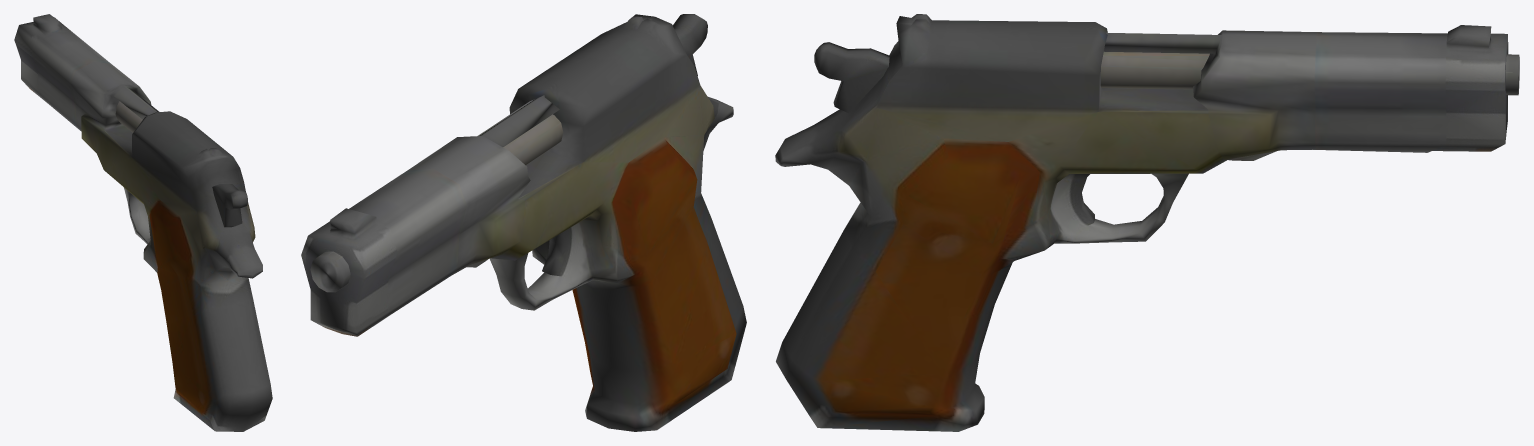
The model's file is tripo-pistol.glb.
The picture shows the model from 3 angles, left to right: view 1: azimuth 30°, elevation 25°; view 2: azimuth 150°, elevation 25°; view 3: azimuth 270°, elevation 25°; orthographic projection. The views are drawn at different scales.
Parts seen in each view (by area): view 1: tripo_node_c7acfbc8-4406-477b-a368-d605658fc1aa; view 2: tripo_node_c7acfbc8-4406-477b-a368-d605658fc1aa; view 3: tripo_node_c7acfbc8-4406-477b-a368-d605658fc1aa.
Part boxes in pixels (bbox=[...]): tripo_node_c7acfbc8-4406-477b-a368-d605658fc1aa: bbox=[14, 14, 272, 431]; tripo_node_c7acfbc8-4406-477b-a368-d605658fc1aa: bbox=[301, 14, 746, 431]; tripo_node_c7acfbc8-4406-477b-a368-d605658fc1aa: bbox=[775, 14, 1519, 431].
Size of the model in its own units: 0.1694 by 0.5933 by 0.9995.
Materials: 1 (1 with a texture image).
